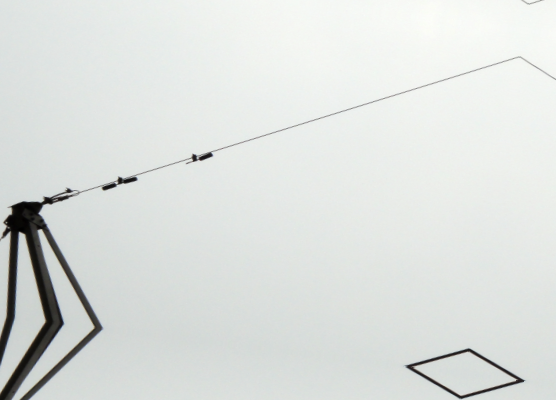damper: (101, 173, 139, 191)
damper_defect: (180, 151, 213, 168)
